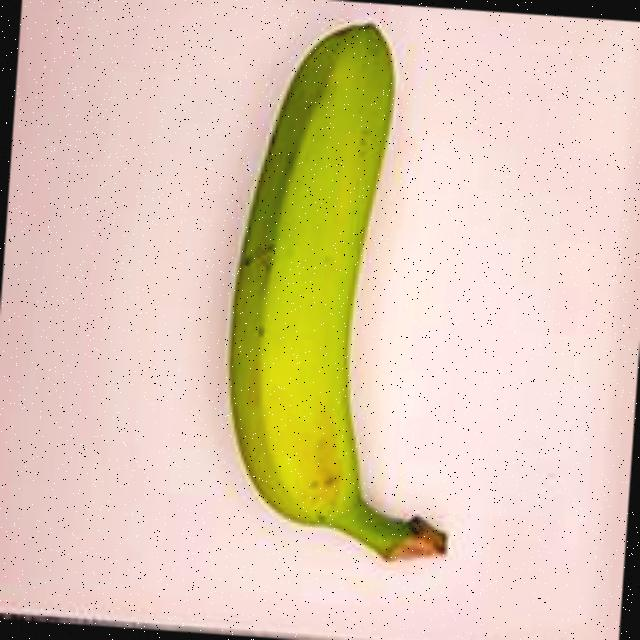Unripe: (151, 0, 540, 602)
